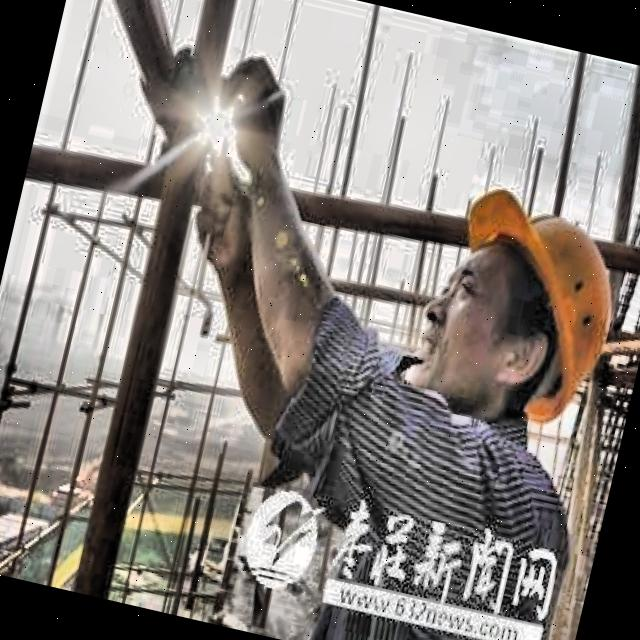helmet: (388, 163, 640, 457)
